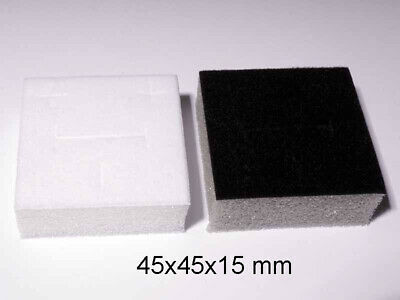Foam Box: (194, 65, 394, 234), (9, 73, 194, 238)
